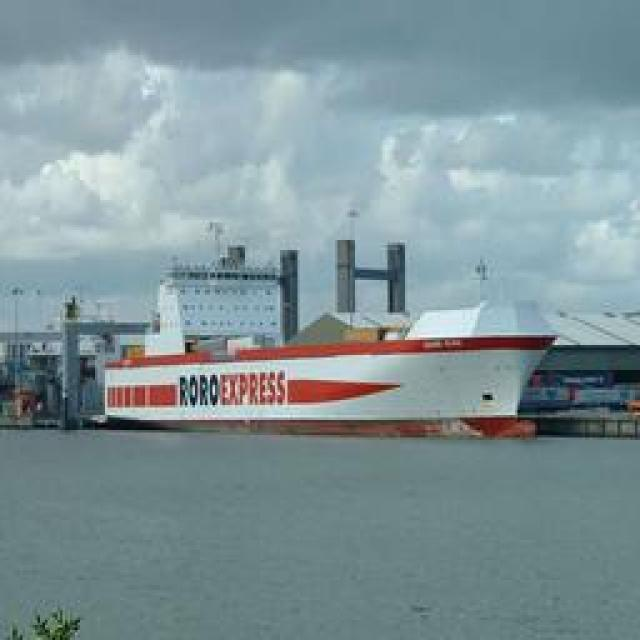CIV_Ship: (88, 301, 552, 429)
